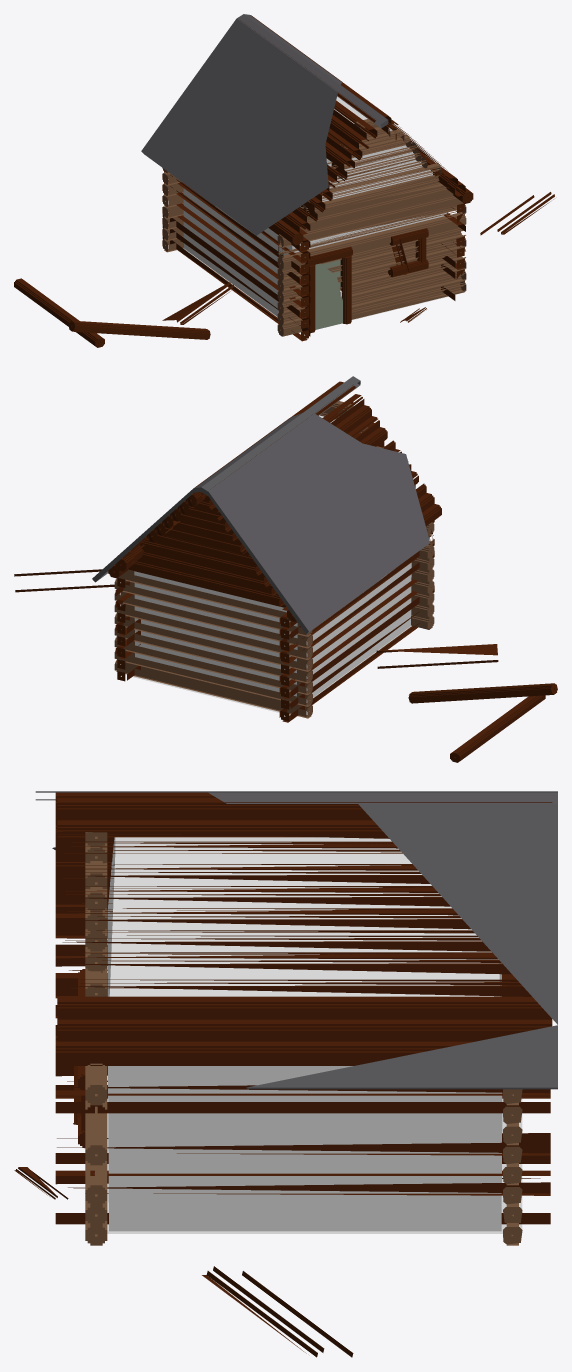
The model's file is destroyed_hutt.fbx.
The picture shows the model from 3 angles, top to bottom: view 1: azimuth 30°, elevation 25°; view 2: azimuth 150°, elevation 25°; view 3: azimuth 270°, elevation 25°; orthographic projection. The views are drawn at different scales.
Parts seen in each view (by area): view 1: Cube.003, hut.025, Cube, hut.003, hut.009, Cube.002, hut.018, hut.002, hut.010, hut.013, hut.004, hut.007 (+5 smaller); view 2: Cube.003, hut.002, Cube, hut.003, hut.009, hut.025, hut.018, hut.035, hut.010, hut.034, hut.033, hut.013 (+6 smaller); view 3: Cube, hut.010, Cube.003, hut.004, hut.001, hut.025, hut.009, hut.003, hut.002, hut.008, Plane.
Part boxes in pixels (left/top/right/bottom): Cube.003: left=141, top=14, right=388, bottom=235; hut.025: left=277, top=119, right=466, bottom=336; Cube: left=183, top=96, right=446, bottom=316; hut.003: left=162, top=171, right=310, bottom=341; hut.009: left=240, top=20, right=377, bottom=234; Cube.002: left=315, top=260, right=342, bottom=329; hut.018: left=68, top=320, right=210, bottom=339; hut.002: left=162, top=168, right=183, bottom=252; hut.010: left=252, top=16, right=465, bottom=196; hut.013: left=14, top=278, right=104, bottom=347; hut.004: left=441, top=203, right=465, bottom=300; hut.007: left=162, top=282, right=234, bottom=324; Cube.003: left=92, top=376, right=430, bottom=634; hut.002: left=114, top=570, right=312, bottom=718; Cube: left=134, top=415, right=411, bottom=701; hut.003: left=279, top=520, right=434, bottom=722; hut.009: left=201, top=384, right=434, bottom=610; hut.025: left=320, top=401, right=434, bottom=629; hut.018: left=408, top=683, right=557, bottom=703; hut.035: left=128, top=560, right=286, bottom=607; hut.010: left=115, top=381, right=343, bottom=571; hut.034: left=137, top=551, right=277, bottom=594; hut.033: left=140, top=539, right=265, bottom=579; hut.013: left=450, top=695, right=545, bottom=762; Cube: left=107, top=837, right=502, bottom=1231; hut.010: left=57, top=797, right=552, bottom=1041; Cube.003: left=35, top=791, right=557, bottom=1089; hut.004: left=55, top=1085, right=550, bottom=1224; hut.001: left=55, top=1040, right=474, bottom=1065; hut.025: left=85, top=832, right=107, bottom=1245; hut.009: left=55, top=792, right=215, bottom=906; hut.003: left=55, top=913, right=550, bottom=1098; hut.002: left=503, top=1089, right=522, bottom=1245; hut.008: left=202, top=1266, right=353, bottom=1357; Plane: left=107, top=1098, right=522, bottom=1233.
Size of the model in its own units: 4252 by 1909 by 2212.
